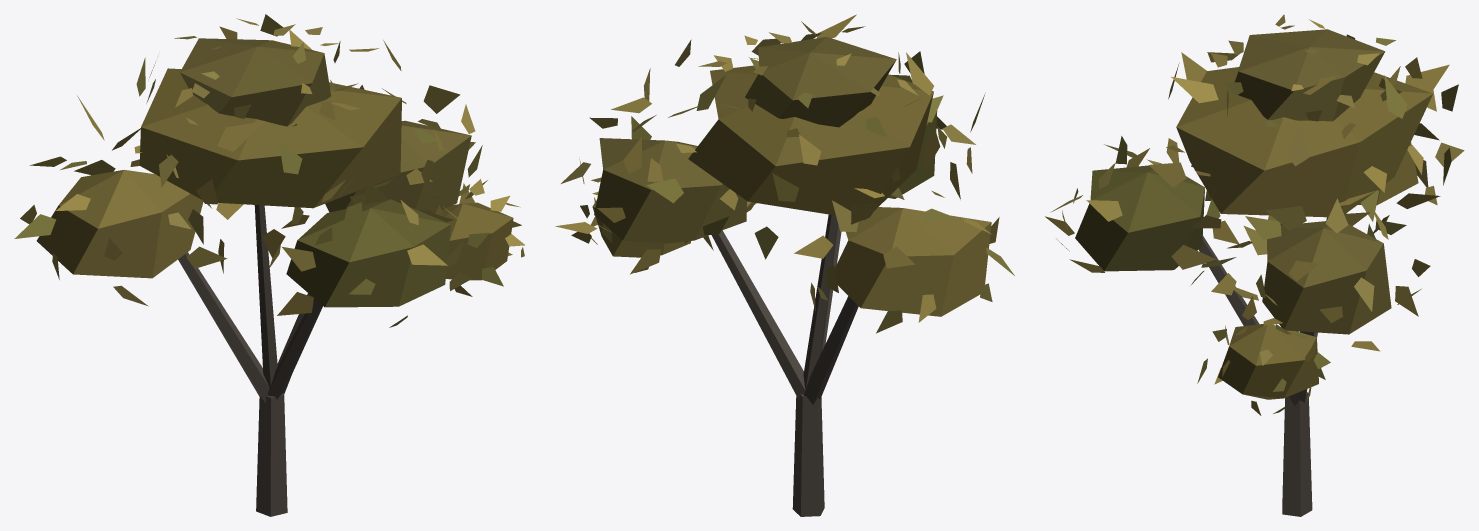
The model's file is elm-high.glb.
3 views of the same model, side by side, from view 1: azimuth 30°, elevation 25°; view 2: azimuth 150°, elevation 25°; view 3: azimuth 270°, elevation 25° (orthographic).
Parts seen in each view (by area): view 1: elm-high / foliage-core, elm-high / foliage, elm-high / wood; view 2: elm-high / foliage-core, elm-high / foliage, elm-high / wood; view 3: elm-high / foliage-core, elm-high / foliage, elm-high / wood.
Boxes of the visible parts, x1,y1,x2,y2 form: elm-high / foliage-core: (36, 38, 513, 307); elm-high / foliage: (14, 14, 524, 327); elm-high / wood: (178, 205, 322, 516); elm-high / foliage-core: (592, 37, 991, 316); elm-high / foliage: (555, 14, 1014, 333); elm-high / wood: (711, 214, 858, 516); elm-high / foliage-core: (1075, 29, 1432, 399); elm-high / foliage: (1045, 14, 1464, 415); elm-high / wood: (1198, 217, 1328, 516).
Size of the model in its own units: 11.7 by 11.23 by 9.09.
